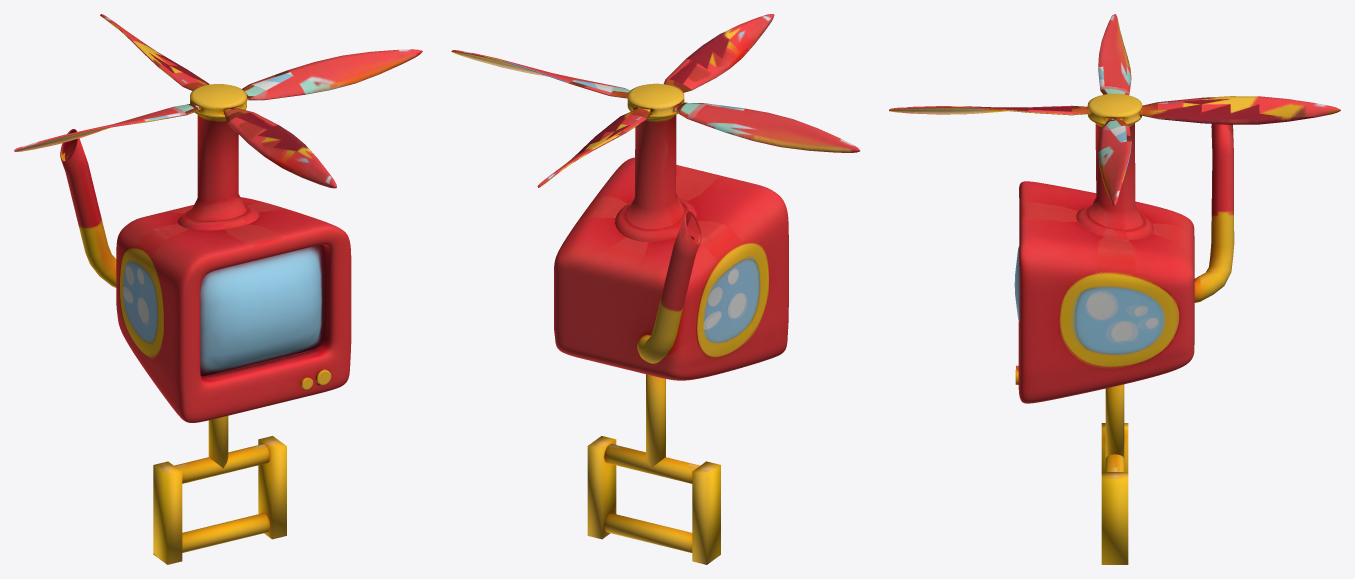
Rendered from _1208222327_texture.fbx.
3 views of the same model, side by side, from view 1: azimuth 30°, elevation 25°; view 2: azimuth 150°, elevation 25°; view 3: azimuth 270°, elevation 25° (orthographic). The views are drawn at different scales.
Parts seen in each view (by area): view 1: Mesh_0.002; view 2: Mesh_0.002; view 3: Mesh_0.002.
Boxes of the visible parts, x1,y1,x2,y2 form: Mesh_0.002: [14, 14, 422, 564]; Mesh_0.002: [451, 14, 860, 564]; Mesh_0.002: [889, 14, 1340, 564].
Bounding box in the file's own units: 188 × 200 × 188.
1 material, 1 textured.
